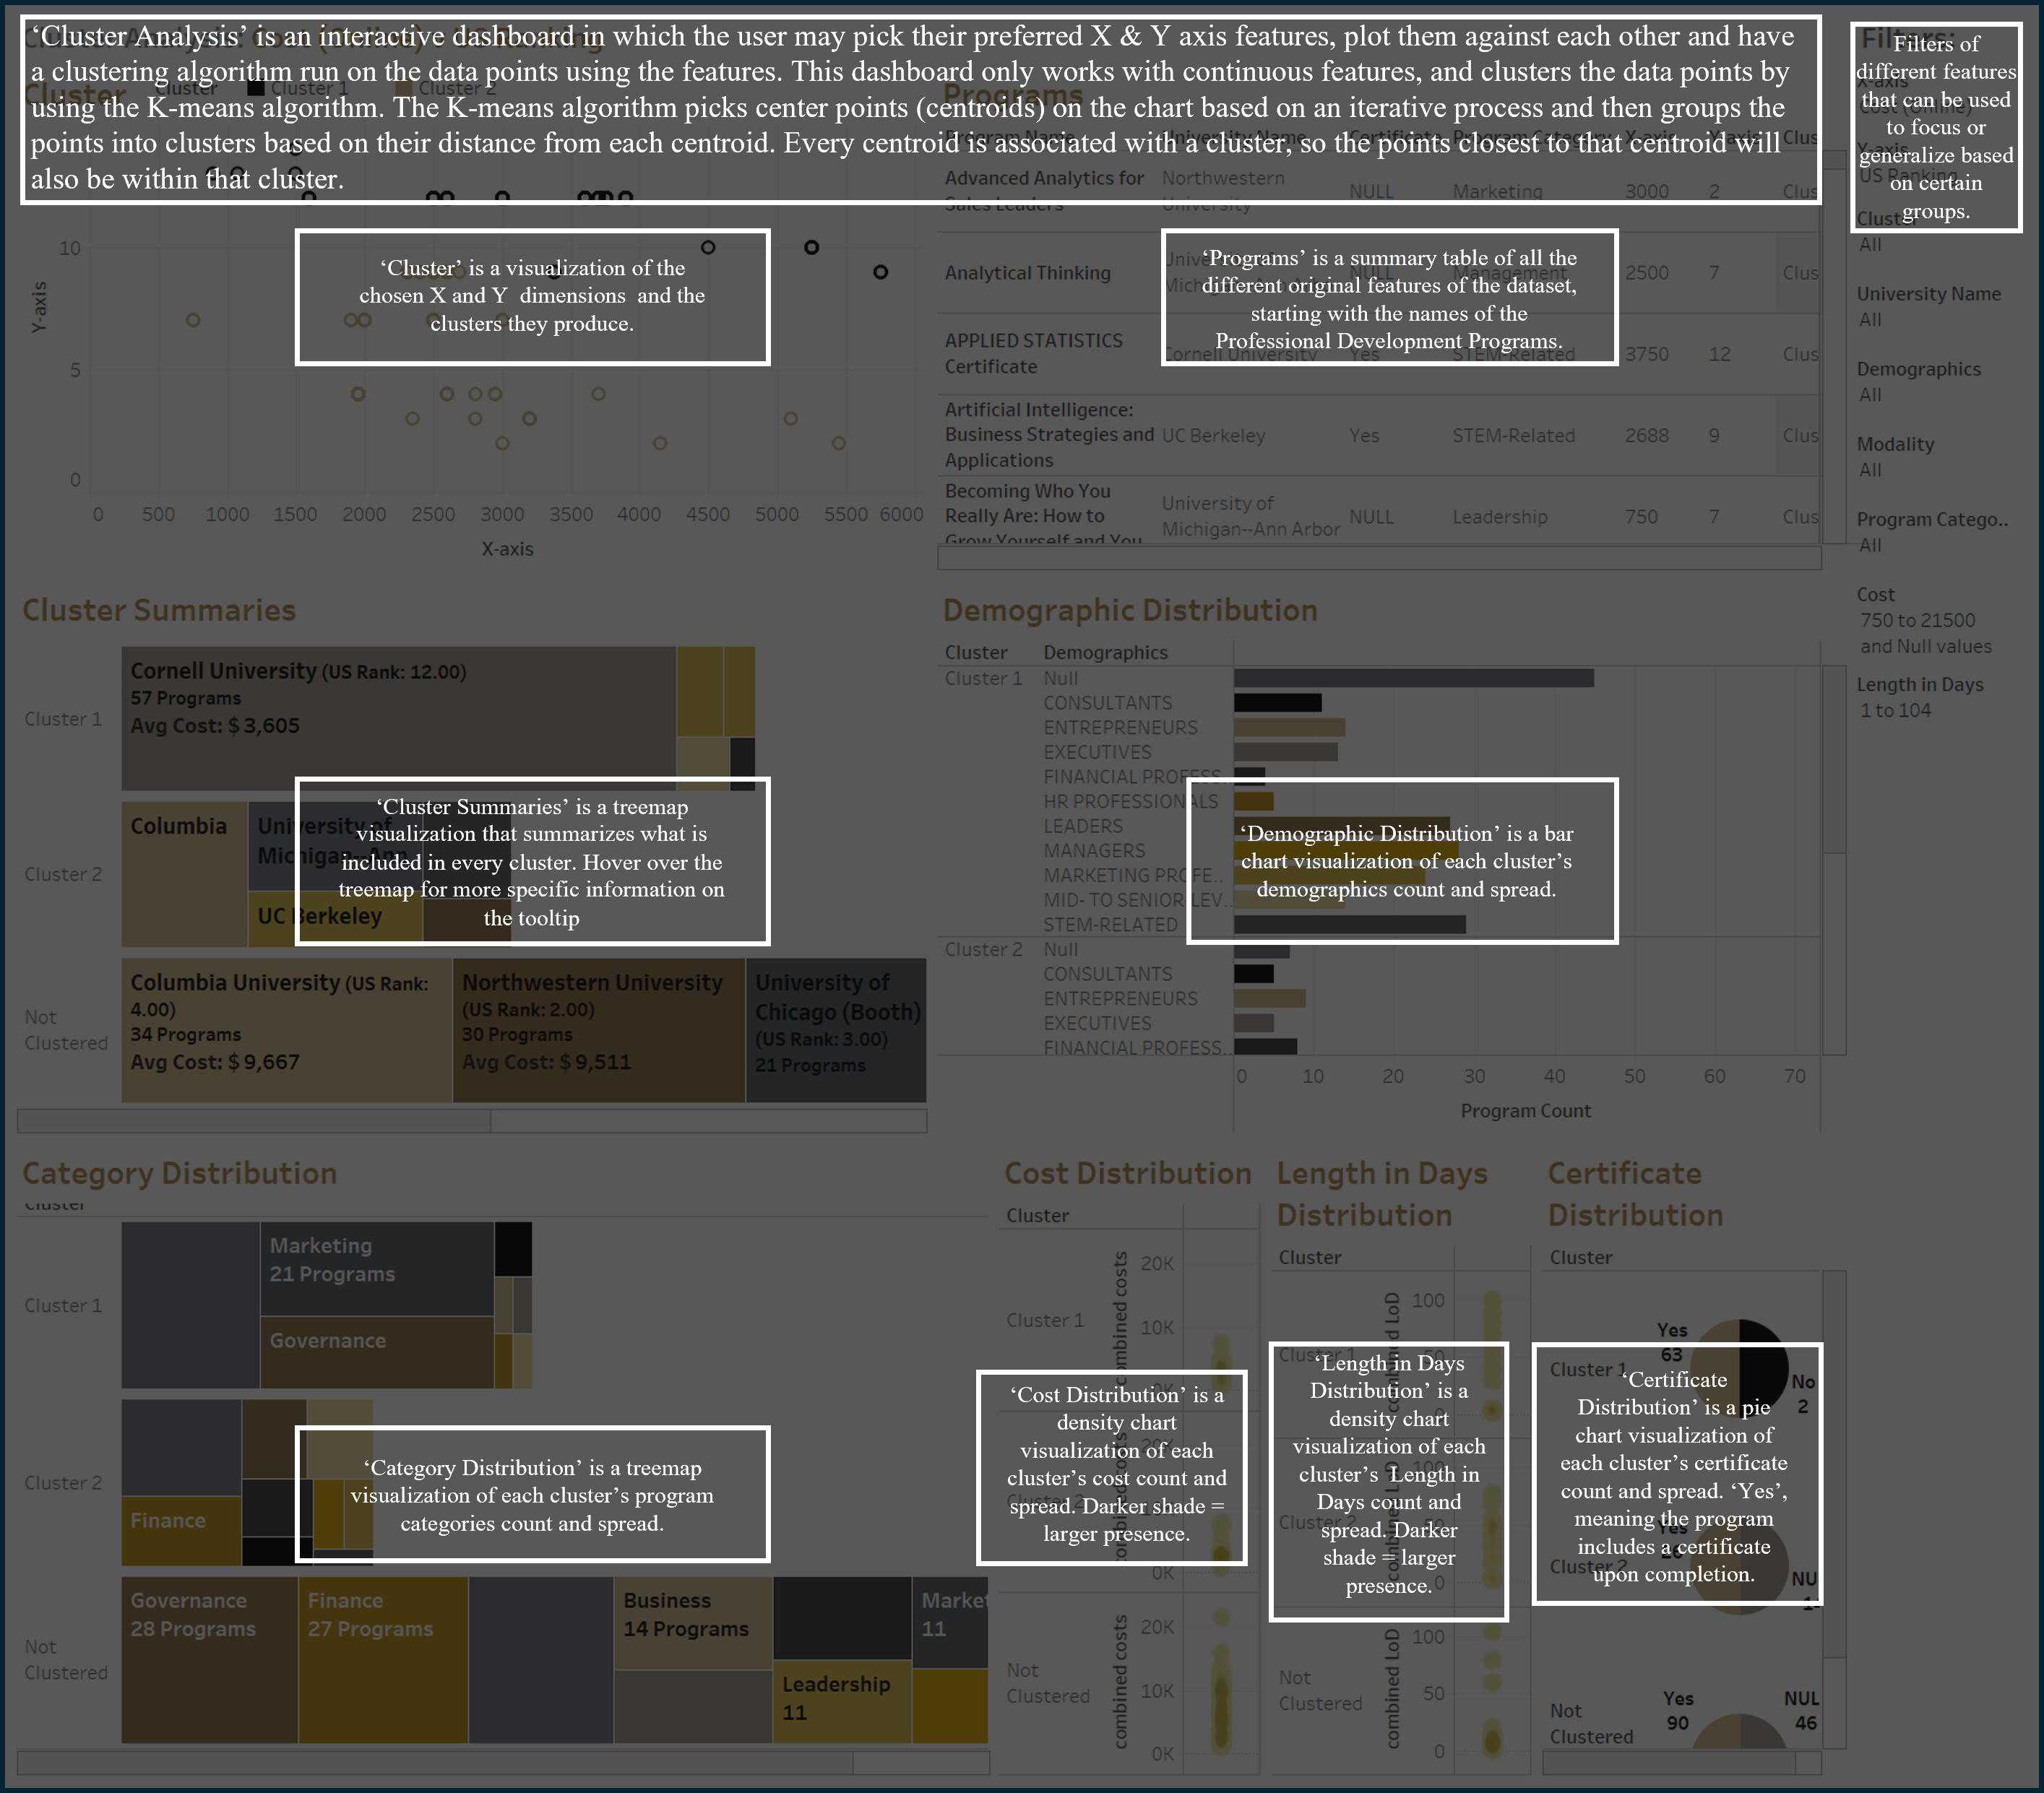

This screenshot's page, from the dashboard's own definition file:
{"tool":"tableau","page":{"name":"Clusters","canvas":[1640,1451],"ordinal":0},"visuals":[{"type":"text","box":[8,8,1493,39.4]},{"type":"text","box":[1501,8,131,40]},{"type":"worksheet","title":"Cluster sheet","mark":"Automatic","rows":["Calculation_1022880111410503682"],"cols":["Calculation_1022880111409344513"],"box":[8,47.4,746.5,417.6]},{"type":"worksheet","title":"Programs List","mark":"Text","rows":["Program Name","University Name","Certificate","Program Category","Calculation_1022880111409344513","Calculation_1022880111410503682","Calculation_824440263058464778"],"box":[754.5,47.4,746.5,417.6]},{"type":"parameter","param":"[Parameters].[Parameter 3]","box":[1501,48,131,56]},{"type":"legend","title":"Cluster sheet","param":"[federated.0zdak4y1buio521cqvwlu0uj1kxu].[none:Calculation_824440263058464778:nk","box":[124,59,599,32]},{"type":"parameter","param":"[Parameters].[Parameter 4]","box":[1501,104,131,56]},{"type":"filter","title":"Cluster sheet","param":"[federated.0zdak4y1buio521cqvwlu0uj1kxu].[none:Calculation_824440263058464778:nk","box":[1501,160,131,61]},{"type":"filter","title":"Cluster sheet","param":"[federated.0zdak4y1buio521cqvwlu0uj1kxu].[none:University Name:nk]","box":[1501,221,131,61]},{"type":"filter","title":"Cluster sheet","param":"[federated.0zdak4y1buio521cqvwlu0uj1kxu].[none:Demographics Split:nk]","box":[1501,282,131,61]},{"type":"filter","title":"Cluster sheet","param":"[federated.0zdak4y1buio521cqvwlu0uj1kxu].[none:Modality:nk]","box":[1501,343,131,61]},{"type":"filter","title":"Cluster sheet","param":"[federated.0zdak4y1buio521cqvwlu0uj1kxu].[none:Program Category:nk]","box":[1501,404,131,61]},{"type":"worksheet","title":"Distribution of Clusters","mark":"Automatic","rows":["Calculation_824440263058464778"],"box":[8,465,746.5,457]},{"type":"worksheet","title":"Sheet 31","mark":"Bar","rows":["Calculation_824440263058464778","Demographics Split"],"cols":["Unique Value"],"box":[754.5,465,746.5,457]},{"type":"filter","title":"Cluster sheet","param":"[federated.0zdak4y1buio521cqvwlu0uj1kxu].[none:Calculation_1856608983510695996:q","box":[1501,465,131,73]},{"type":"filter","title":"Cluster sheet","param":"[federated.0zdak4y1buio521cqvwlu0uj1kxu].[none:Calculation_2319353865833132048:q","box":[1501,538,131,73]},{"type":"dashboard-object","box":[1498,606,140,127]},{"type":"worksheet","title":"Sheet 27","mark":"Automatic","rows":["Calculation_824440263058464778"],"box":[8,922,797,521]},{"type":"worksheet","title":"Sheet 28","mark":"Heatmap","rows":["Calculation_824440263058464778","Calculation_1856608983510695996"],"box":[805,922,221.5,521]},{"type":"worksheet","title":"Sheet 30","mark":"Heatmap","rows":["Calculation_824440263058464778","Calculation_2319353865833132048"],"box":[1026.5,922,219.5,521]},{"type":"worksheet","title":"Sheet 29","mark":"Pie","rows":["Calculation_824440263058464778"],"box":[1246,922,255,521]}]}

Visuals, with their boxes in screenshot pixels (x1, y1, x2, y2), scaled from the page's 1640x1451 canvas onto the 2044x1793 screenshot:
text: 10 10 1871 59
text: 1871 10 2034 59
"Cluster sheet" worksheet: 10 59 941 574
"Programs List" worksheet (Text marks): 941 59 1871 574
parameter: 1871 59 2034 129
"Cluster sheet" legend: 155 73 901 113
parameter: 1871 129 2034 198
"Cluster sheet" filter: 1871 198 2034 273
"Cluster sheet" filter: 1871 273 2034 348
"Cluster sheet" filter: 1871 348 2034 424
"Cluster sheet" filter: 1871 424 2034 499
"Cluster sheet" filter: 1871 499 2034 574
"Distribution of Clusters" worksheet: 10 574 941 1139
"Sheet 31" worksheet (Bar marks): 941 574 1871 1139
"Cluster sheet" filter: 1871 574 2034 665
"Cluster sheet" filter: 1871 665 2034 755
dashboard-object: 1867 749 2042 906
"Sheet 27" worksheet: 10 1139 1004 1783
"Sheet 28" worksheet (Heatmap marks): 1004 1139 1280 1783
"Sheet 30" worksheet (Heatmap marks): 1280 1139 1553 1783
"Sheet 29" worksheet (Pie marks): 1553 1139 1871 1783
